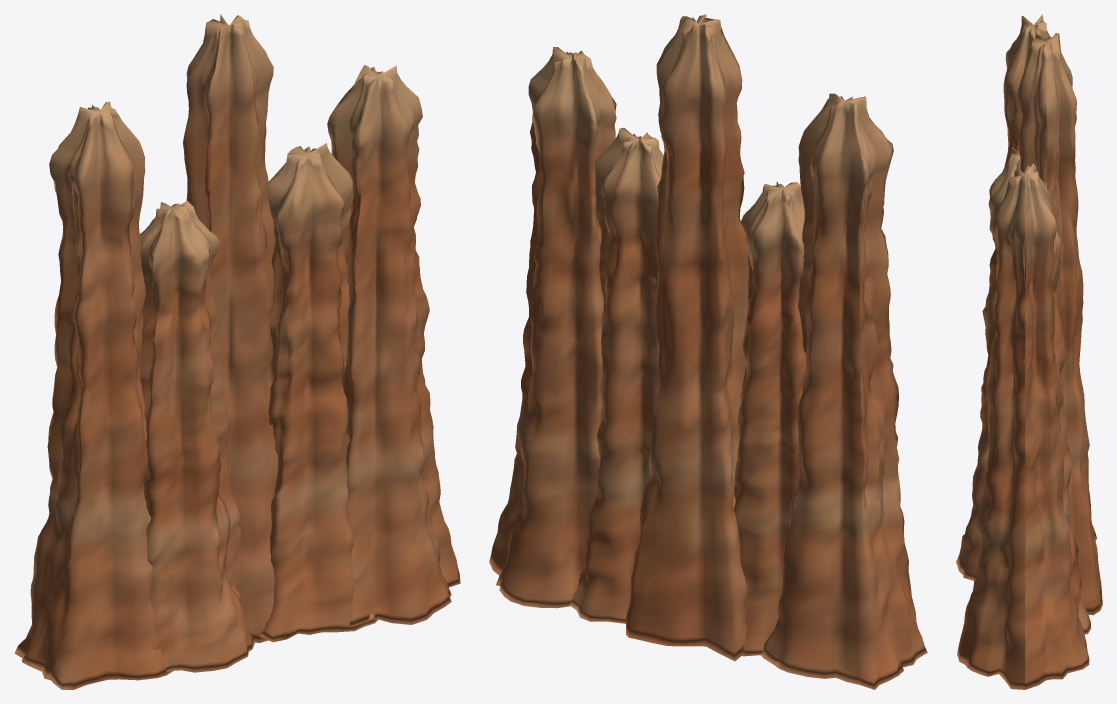
The model's file is hoodoo-fin.glb.
The picture shows the model from 3 angles, left to right: view 1: azimuth 30°, elevation 25°; view 2: azimuth 150°, elevation 25°; view 3: azimuth 270°, elevation 25°; orthographic projection. The views are drawn at different scales.
Visible parts, largest first — view 1: hoodoo-fin; view 2: hoodoo-fin; view 3: hoodoo-fin.
Boxes of the visible parts, left/top/right/bottom form: hoodoo-fin: left=14, top=14, right=460, bottom=689; hoodoo-fin: left=489, top=14, right=927, bottom=689; hoodoo-fin: left=956, top=14, right=1102, bottom=689.
Bounding box in the file's own units: 28.93 × 39.72 × 9.46.
